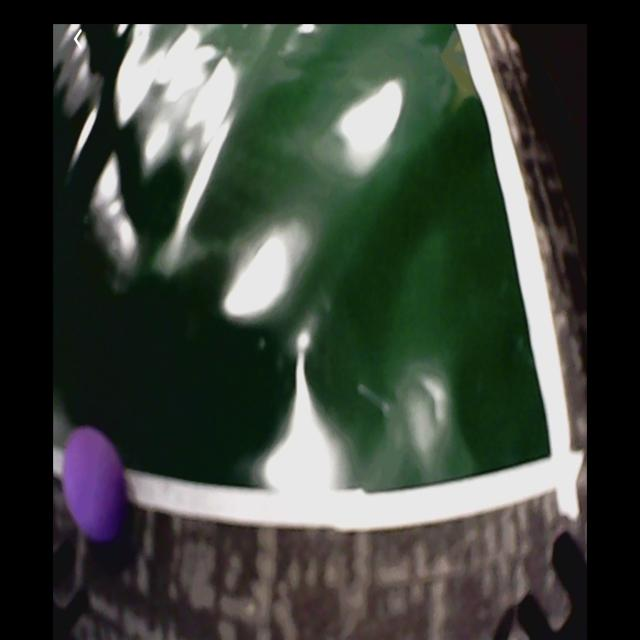ball: (64, 426, 126, 549)
